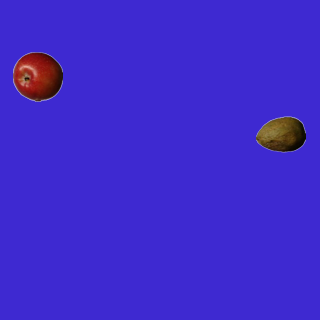Apple Braeburn: (12, 51, 62, 101)
Papaya: (255, 109, 305, 159)
